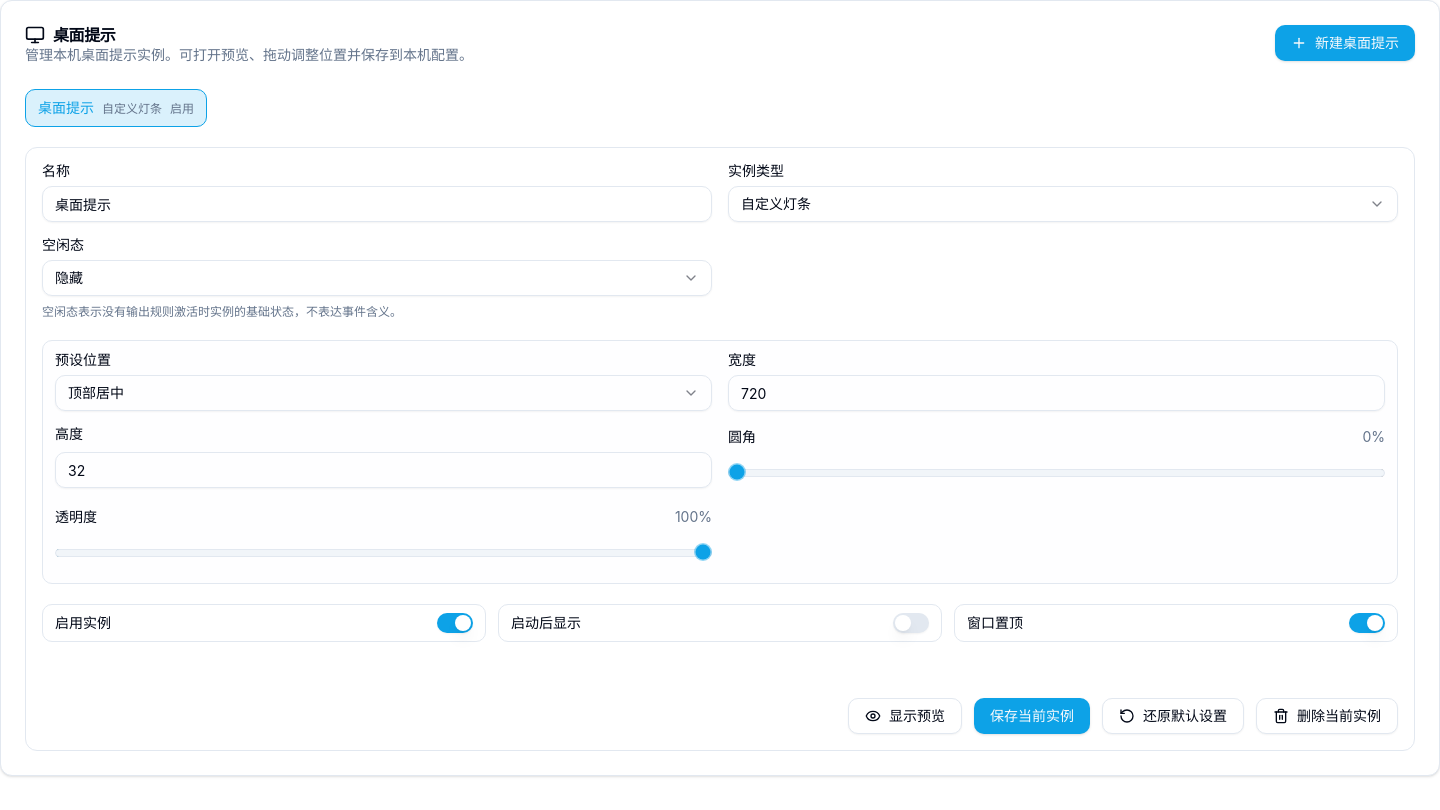
Test: DesktopNoticeInstanceLibrary › auto saves preview bounds after the preview window is moved
Click the button "显示预览": click(905, 716) [848,698,962,734]
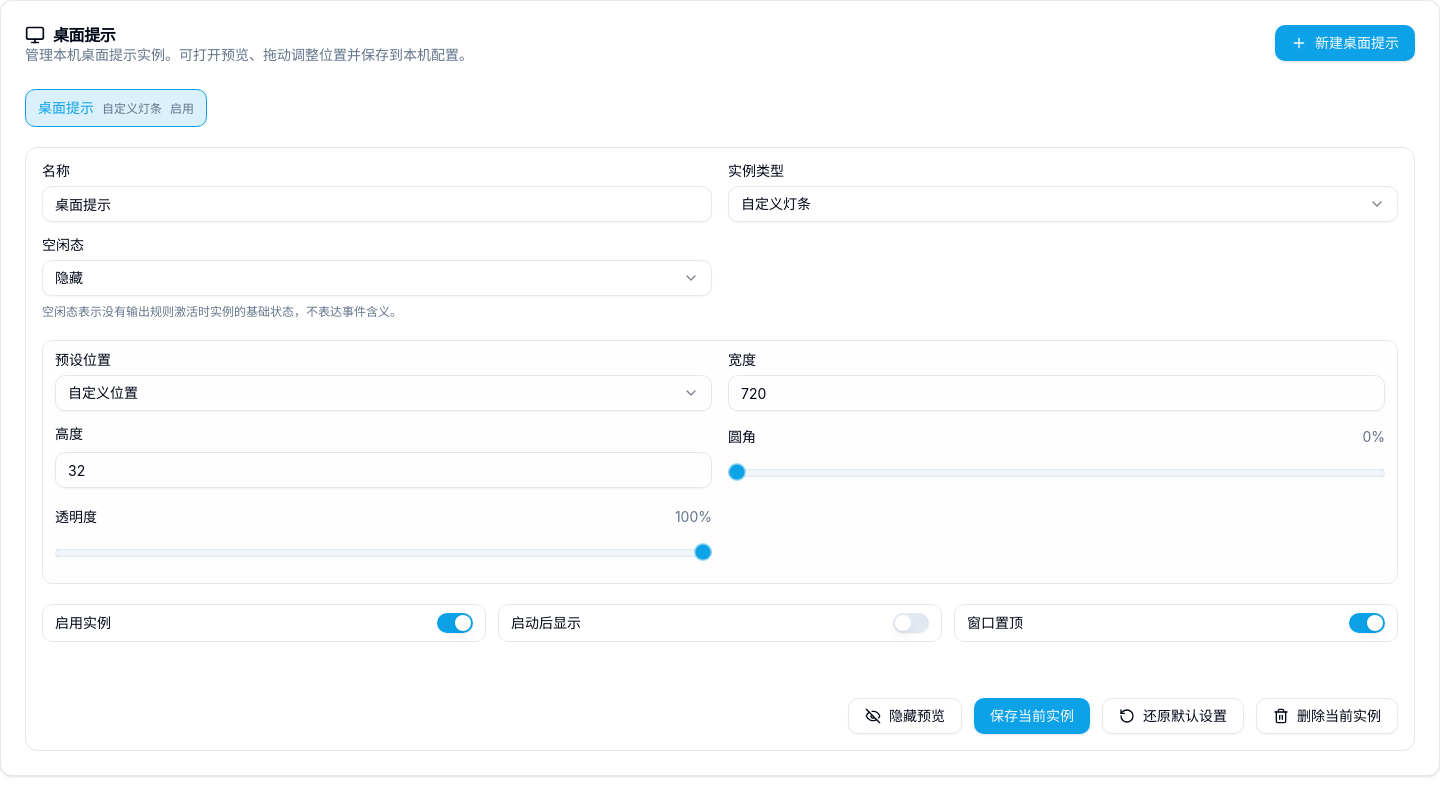
Now the button "隐藏预览" is shown, box [848,698,962,734]
